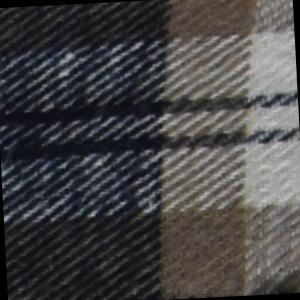Stain: (239, 266, 300, 296)
